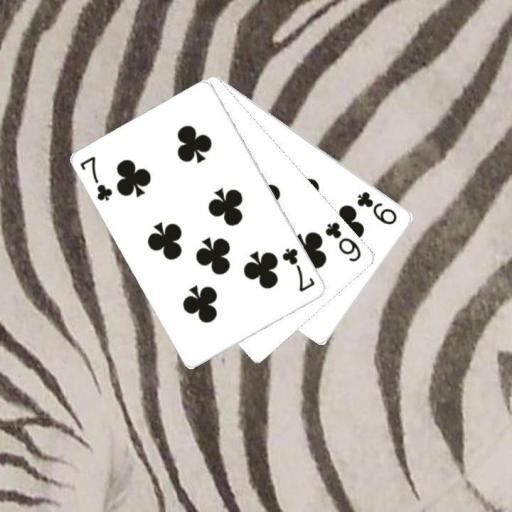6C: (323, 218, 364, 264)
7C: (279, 245, 317, 294), (77, 153, 114, 203)
9C: (354, 188, 400, 227)
